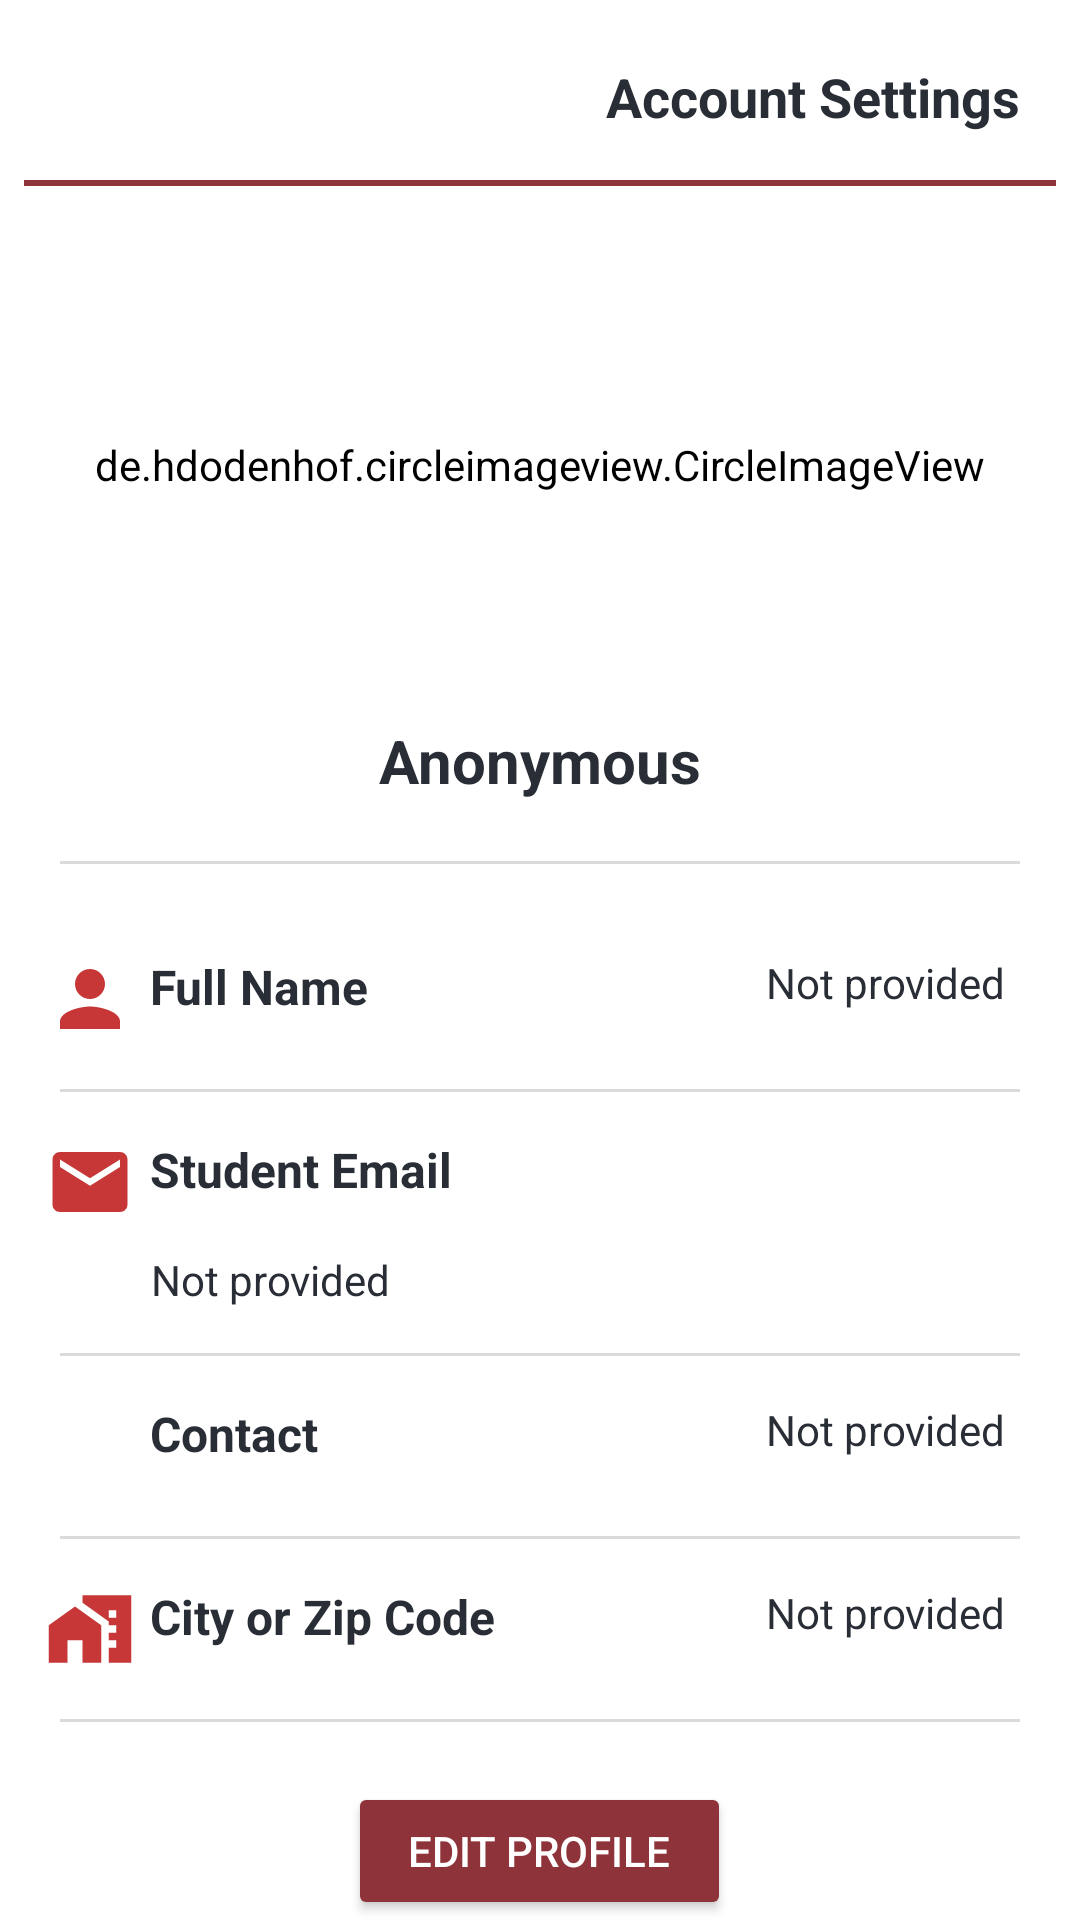

Point at icon controls on the screen. Image size 1080px x 1920px, points as (x,y).
Address Icon: (90,1629)
profile icon: (90,999)
